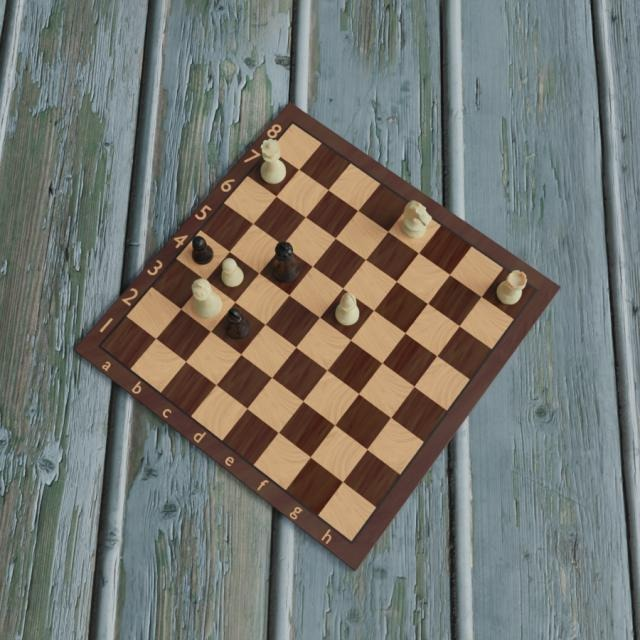black-bishop: (226, 307, 252, 341)
black-king: (272, 240, 300, 284)
black-pawn: (192, 235, 214, 265)
white-bishop: (335, 291, 361, 329)
white-king: (190, 276, 224, 320)
white-knight: (402, 200, 433, 239)
white-pawn: (219, 256, 244, 287)
white-queen: (260, 137, 287, 186)
white-rook: (496, 268, 528, 308)
